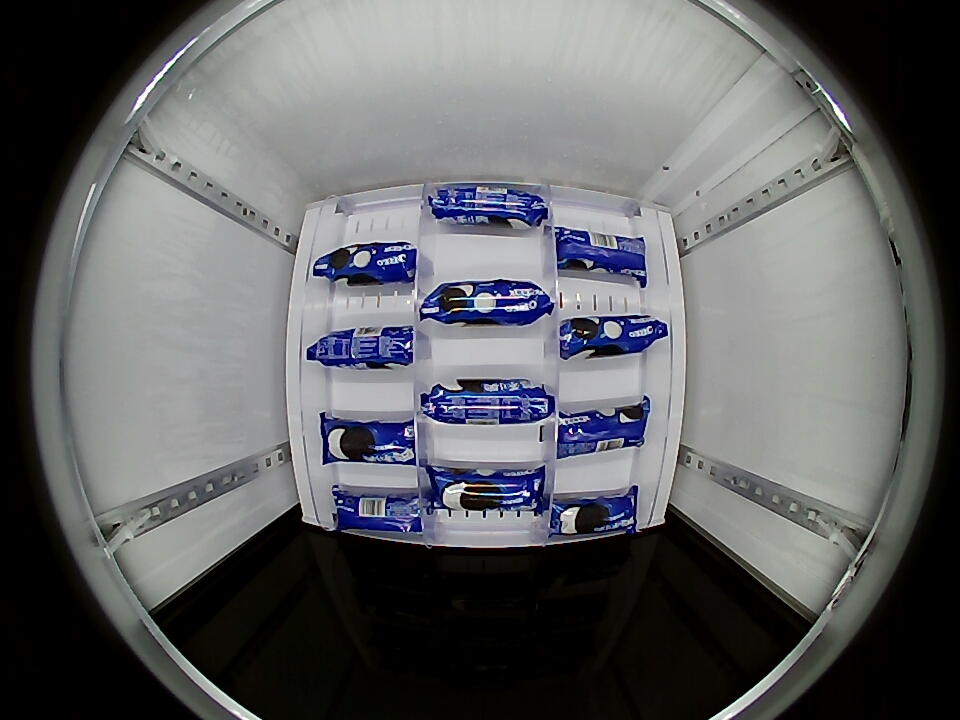aoliao: (428, 408, 546, 469), (551, 395, 650, 461), (418, 377, 554, 424), (420, 280, 556, 325), (424, 182, 549, 229), (331, 482, 430, 540), (551, 222, 648, 280), (321, 232, 429, 284), (307, 325, 425, 371), (320, 417, 428, 466), (550, 315, 669, 359), (432, 467, 545, 513), (546, 489, 640, 543), (433, 508, 547, 548)
